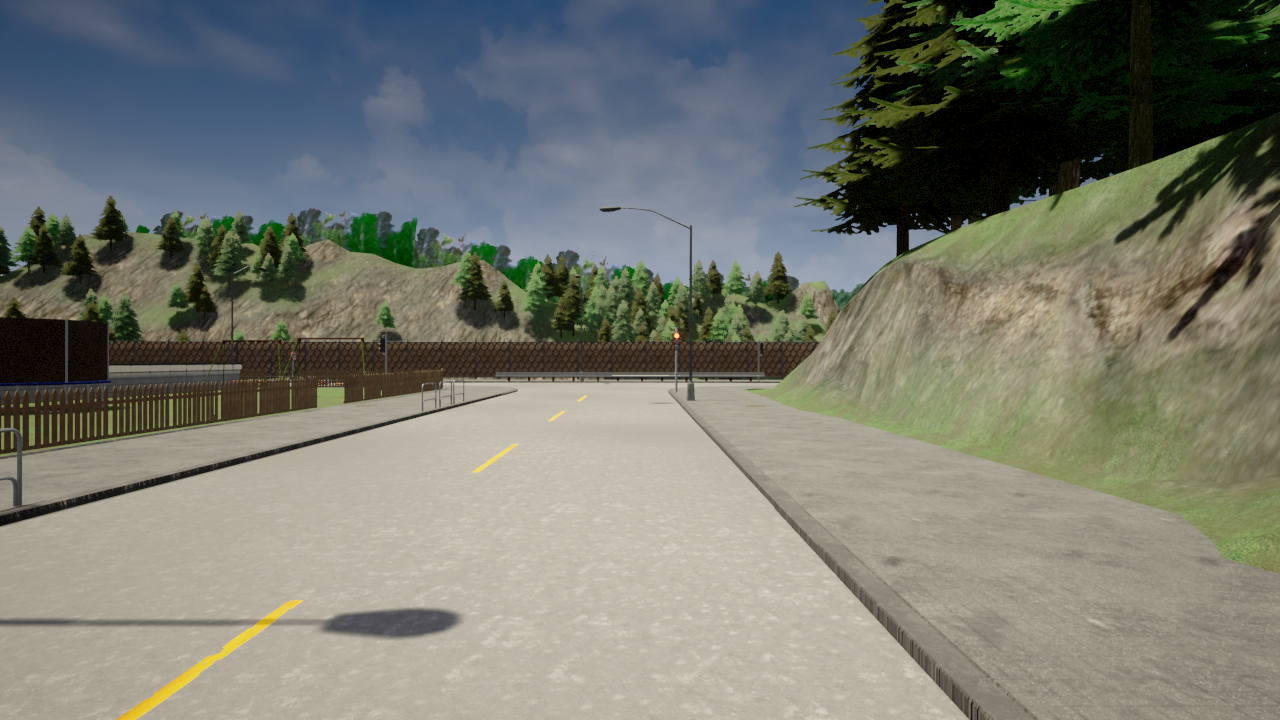red: (674, 332, 680, 351)
